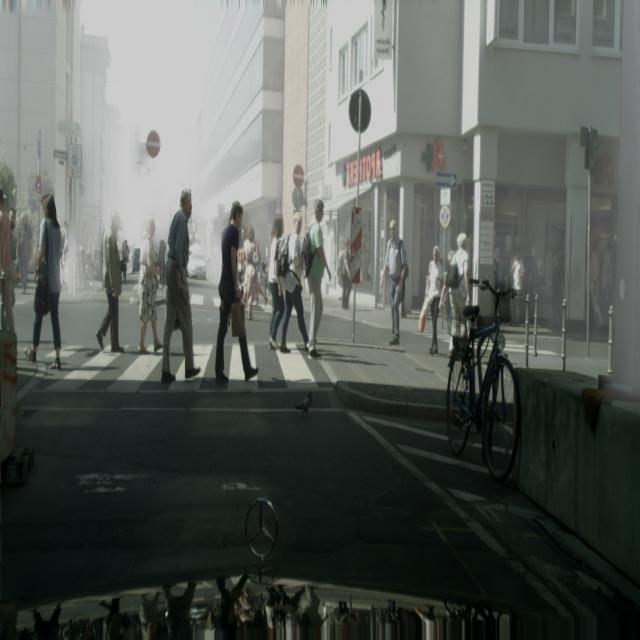car: (445, 278, 521, 483), (75, 251, 92, 291)
person: (215, 202, 259, 384), (161, 188, 201, 382), (23, 193, 65, 370), (303, 199, 332, 357), (278, 212, 310, 354), (95, 209, 125, 353), (137, 214, 163, 354), (380, 217, 408, 346), (442, 232, 470, 356), (419, 244, 445, 356), (267, 216, 285, 350), (0, 190, 16, 332), (16, 211, 33, 295), (510, 248, 524, 324), (551, 251, 564, 328), (338, 239, 352, 310)
truck: (187, 245, 207, 279)
